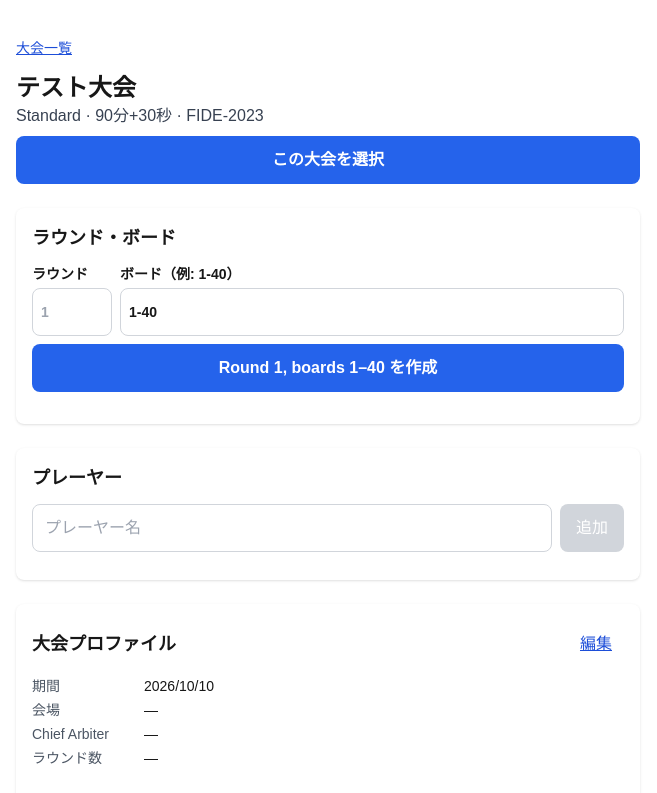
Test: Tournament detail — editing after incidents › warns that changes apply only to new incidents when incidents exist
Step 1. Click the button "編集" → (596, 644), box [568,620,624,668]
(page scrolled)
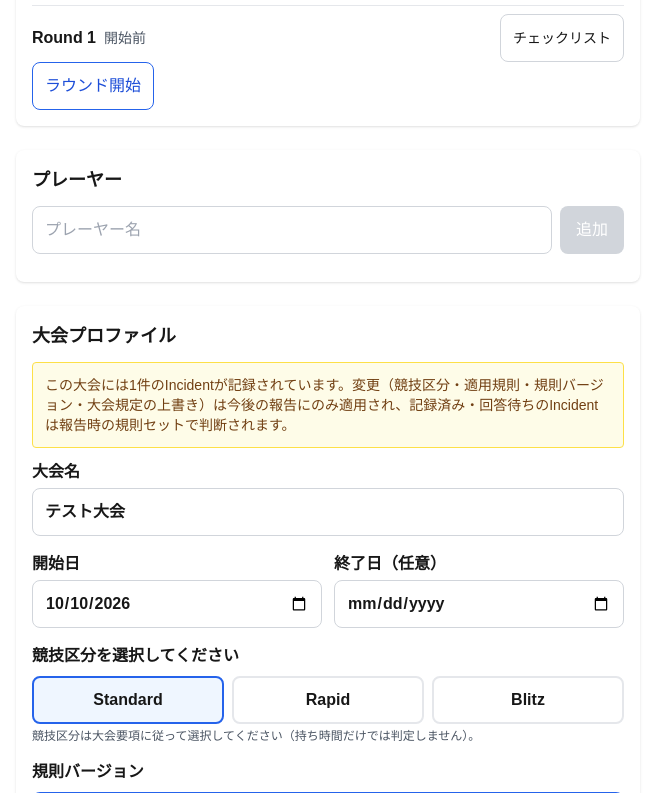
Expected: the text "今後の報告にのみ適用" is shown, [45,377,604,433]
